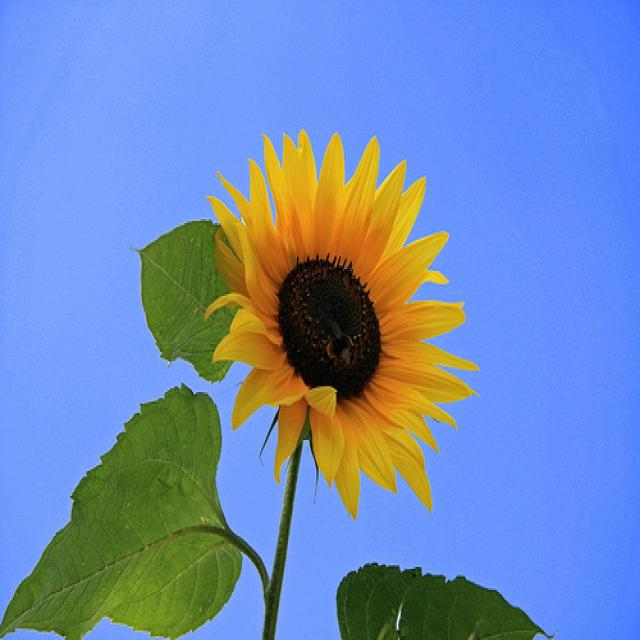sunflower: (199, 124, 485, 524)
